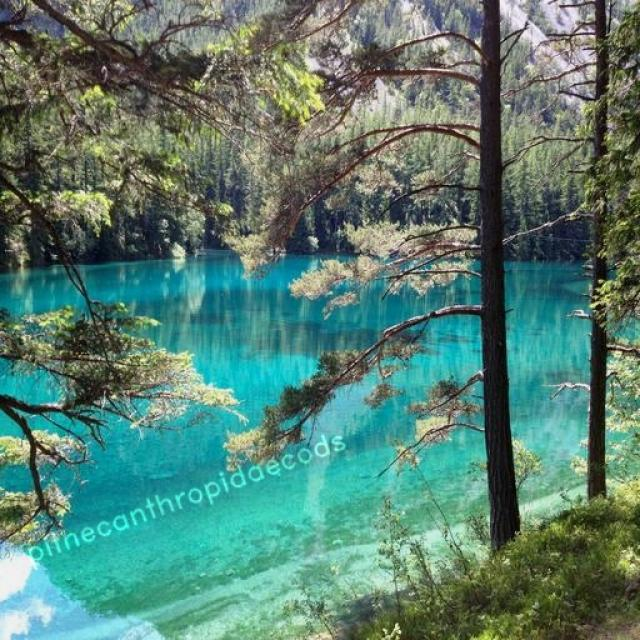watermark: (21, 423, 347, 568)
